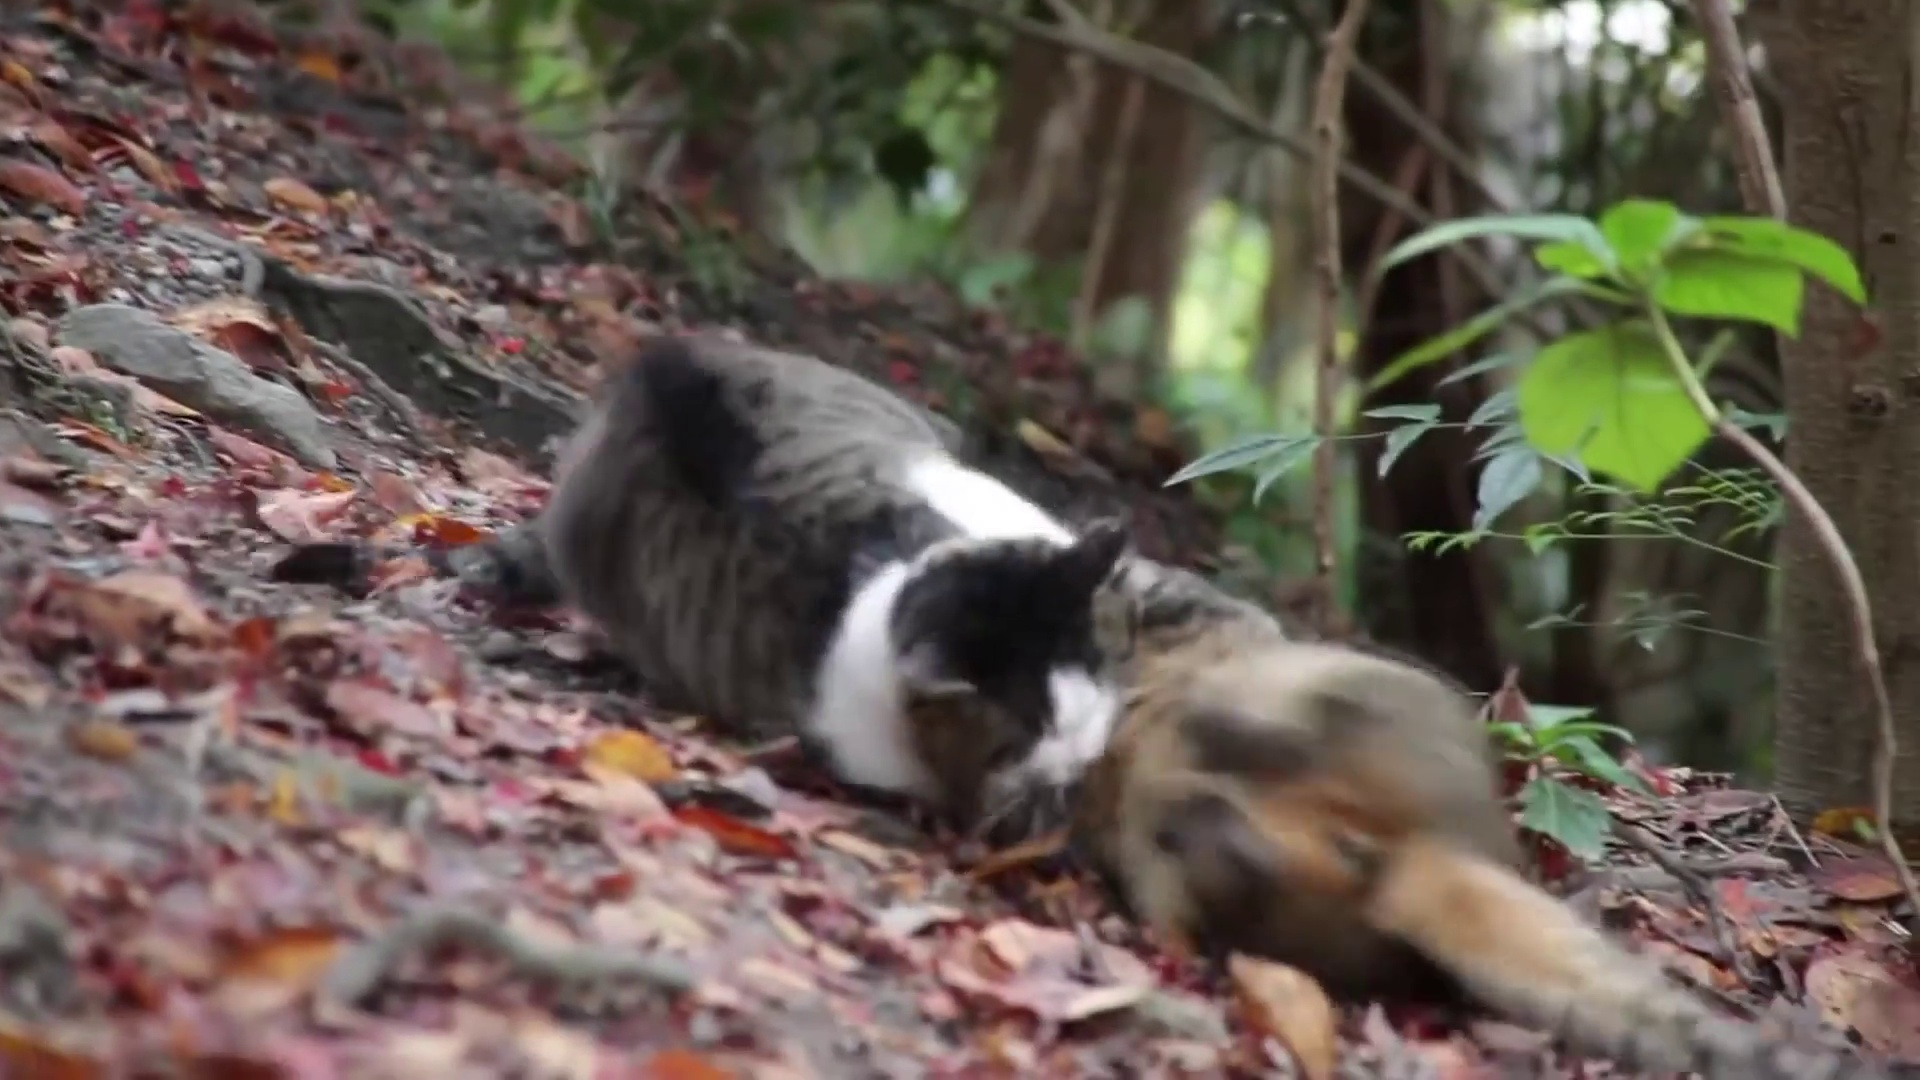black-white: (538, 343, 1125, 796)
pure black: (1063, 550, 1724, 1062)
